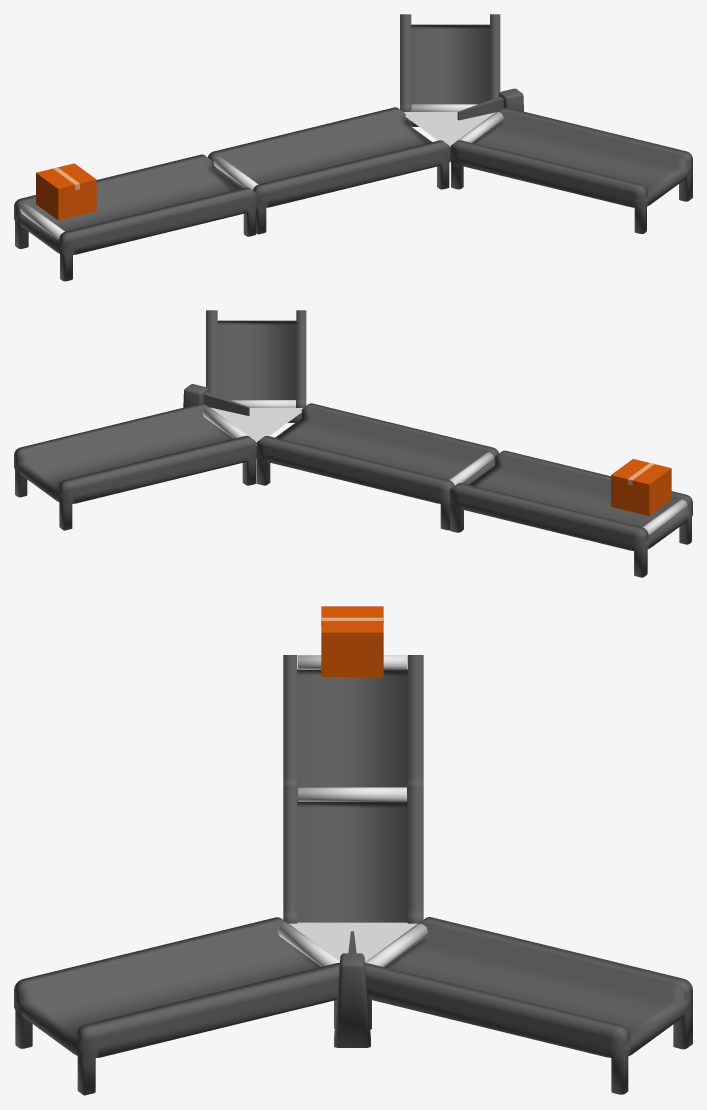
The model's file is parcel.glb.
The picture shows the model from 3 angles, top to bottom: view 1: azimuth 30°, elevation 25°; view 2: azimuth 150°, elevation 25°; view 3: azimuth 270°, elevation 25°; orthographic projection. The views are drawn at different scales.
Visible parts, largest first — view 1: Conveyor.001, Conveyor, Conveyor.003, Conveyor.002, Parcel, Plane, Switcher, Cylinder.004, Cylinder.003, Cylinder.002, Cylinder.001, SwitcherBase; view 2: Conveyor.002, Conveyor, Conveyor.003, Conveyor.001, Parcel, Plane, Switcher, Cylinder.004, Cylinder.003, Cylinder.001, Cylinder.002, SwitcherBase; view 3: Conveyor.002, Conveyor.001, Conveyor, Conveyor.003, Parcel, SwitcherBase, Plane, Cylinder.003, Cylinder.001, Cylinder.002.
Part boxes in pixels (x1,y1,x2,y2): Conveyor.001: [450, 107, 692, 233]; Conveyor: [207, 107, 450, 234]; Conveyor.003: [14, 154, 256, 281]; Conveyor.002: [400, 14, 500, 126]; Parcel: [36, 163, 96, 220]; Plane: [404, 111, 495, 147]; Switcher: [457, 96, 503, 120]; Cylinder.004: [20, 204, 64, 240]; Cylinder.003: [213, 156, 258, 189]; Cylinder.002: [457, 112, 503, 142]; Cylinder.001: [411, 104, 477, 111]; SwitcherBase: [499, 88, 523, 111]; Conveyor.002: [14, 403, 256, 530]; Conveyor: [256, 403, 498, 530]; Conveyor.003: [450, 450, 692, 577]; Conveyor.001: [206, 310, 306, 422]; Parcel: [611, 459, 671, 515]; Plane: [210, 407, 302, 445]; Switcher: [203, 392, 249, 415]; Cylinder.004: [642, 499, 687, 535]; Cylinder.003: [449, 452, 494, 485]; Cylinder.001: [202, 407, 248, 438]; Cylinder.002: [230, 400, 295, 407]; SwitcherBase: [183, 384, 208, 407]; Conveyor.002: [365, 917, 692, 1094]; Conveyor.001: [14, 917, 339, 1095]; Conveyor: [283, 787, 423, 923]; Conveyor.003: [283, 655, 423, 801]; Parcel: [321, 606, 383, 676]; SwitcherBase: [334, 953, 370, 1047]; Plane: [288, 922, 417, 961]; Cylinder.003: [298, 787, 406, 801]; Cylinder.001: [365, 923, 427, 967]; Cylinder.002: [278, 923, 339, 966].
Size of the model in its own units: 28.92 by 4.2 by 21.78.
